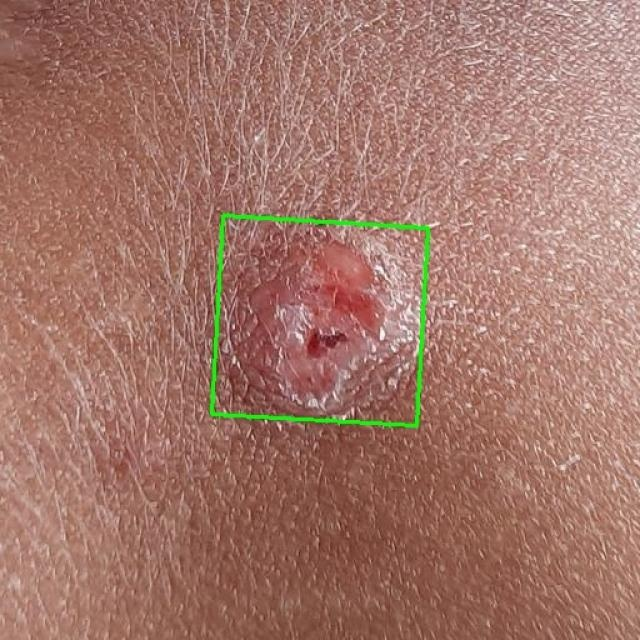Contact Dermatitis: (212, 215, 428, 426)
